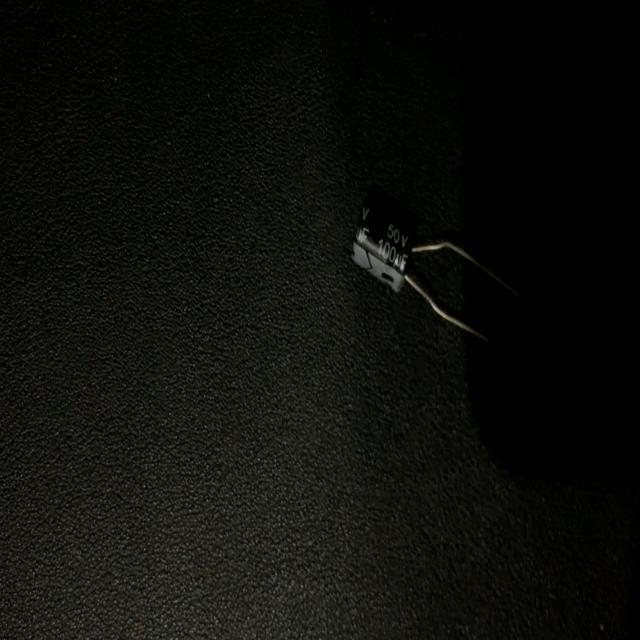capacitor: (351, 202, 522, 342)
